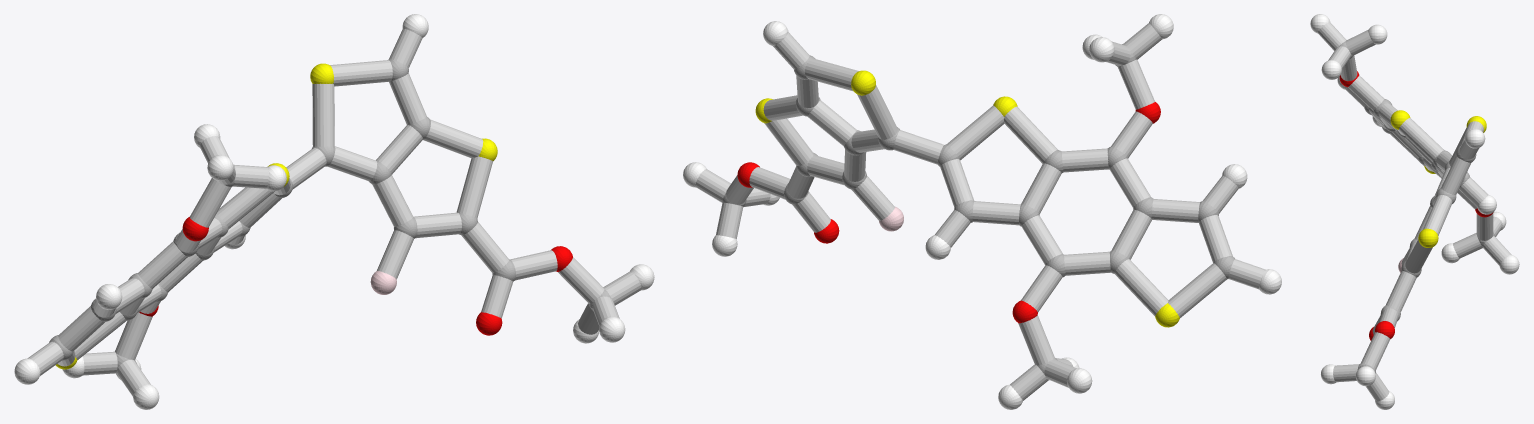
The model's file is color.glb.
3 renders of one model, left to right at view 1: azimuth 30°, elevation 25°; view 2: azimuth 150°, elevation 25°; view 3: azimuth 270°, elevation 25°, orthographic. The views are drawn at different scales.
Parts seen in each view (by area): view 1: grp15205, grp8689, grp1, grp13395, grp7241; view 2: grp15205, grp8689, grp1, grp7241, grp13395; view 3: grp15205, grp8689, grp1, grp7241, grp13395.
Boxes of the visible parts, left/top/right/bottom form: grp15205: left=27, top=29, right=641, bottom=396; grp8689: left=14, top=14, right=654, bottom=409; grp1: left=49, top=59, right=611, bottom=373; grp13395: left=139, top=217, right=572, bottom=335; grp7241: left=55, top=63, right=497, bottom=369; grp15205: left=695, top=23, right=1265, bottom=400; grp8689: left=683, top=14, right=1281, bottom=409; grp1: left=722, top=44, right=1234, bottom=380; grp7241: left=755, top=70, right=1179, bottom=327; grp13395: left=737, top=102, right=1160, bottom=323; grp15205: left=1318, top=22, right=1511, bottom=401; grp8689: left=1310, top=14, right=1519, bottom=409; grp1: left=1338, top=41, right=1494, bottom=373; grp7241: left=1390, top=110, right=1486, bottom=247; grp13395: left=1339, top=71, right=1493, bottom=340.
Size of the model in its own units: 16.45 by 8.13 by 6.23.
